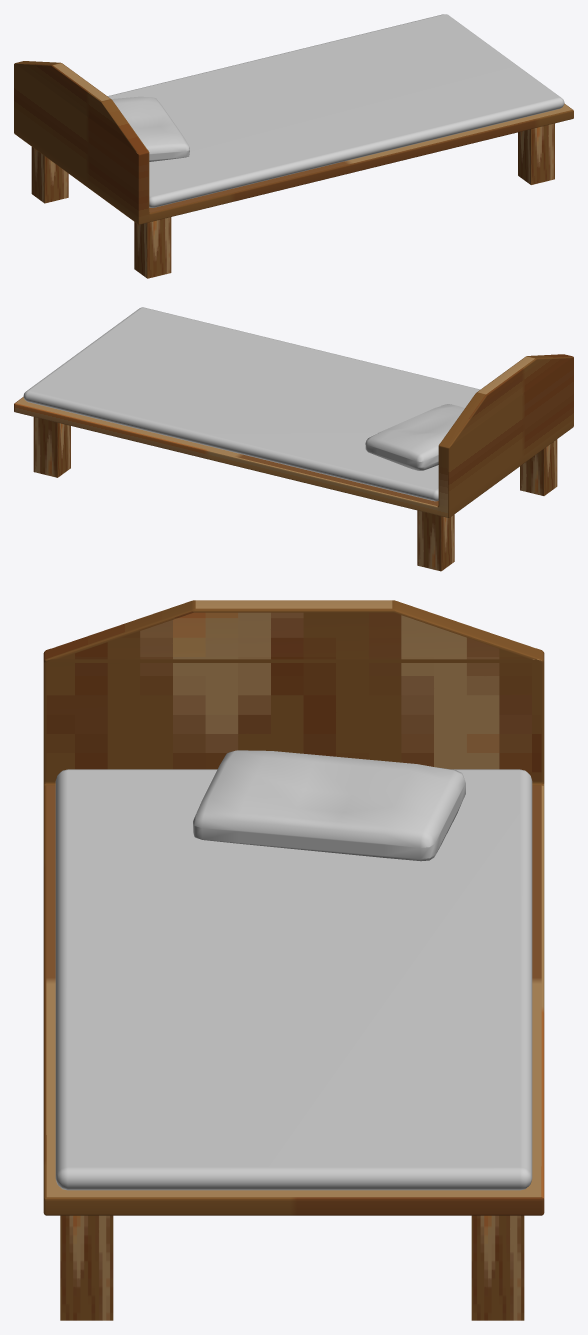
File: bed.fbx
3 views of the same model, one above another, from view 1: azimuth 30°, elevation 25°; view 2: azimuth 150°, elevation 25°; view 3: azimuth 270°, elevation 25° (orthographic). The views are drawn at different scales.
Visible parts, largest first — view 1: polySurface3, polySurface6, polySurface5; view 2: polySurface3, polySurface6, polySurface5; view 3: polySurface3, polySurface6, polySurface5.
Part boxes in pixels (x1,y1,x2,y2): polySurface3: (107,14,564,207); polySurface6: (14,61,573,278); polySurface5: (111,96,189,161); polySurface3: (23,307,480,501); polySurface6: (14,354,573,571); polySurface5: (365,404,464,470); polySurface3: (55,769,532,1190); polySurface6: (43,600,544,1320); polySurface5: (193,750,465,861).
Size of the model in its own units: 4.04 by 1.38 by 2.01.
